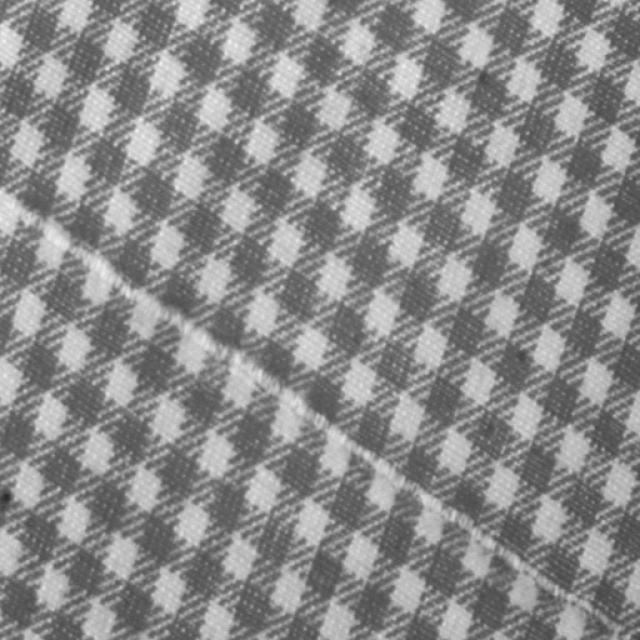Thread-Defect: (2, 187, 627, 639)
